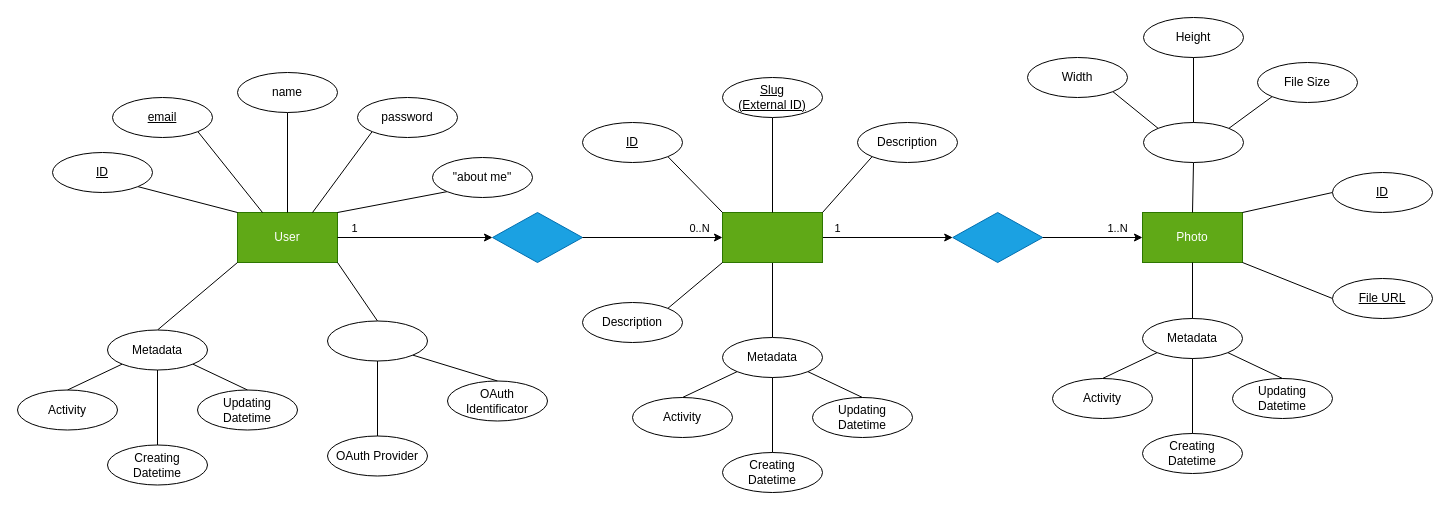
Image size: 1450x510. Some labels were removed from this diagram. Here are the shapes that lost their labels. From the top down, the box of each, then its label:
(1142, 122, 1244, 162): Photo Metadata
(492, 212, 582, 262): Has
(722, 212, 822, 262): Entry
(952, 212, 1043, 262): Contains
(326, 320, 428, 361): OAuth Metadata
